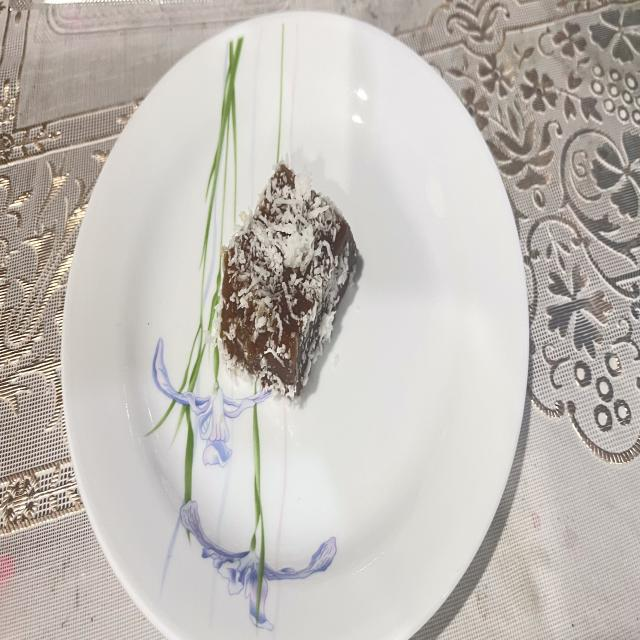kaswi: (219, 162, 358, 398)
